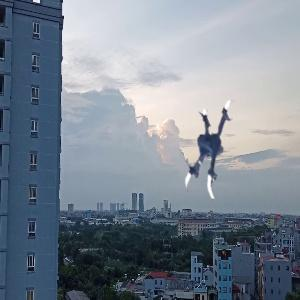drone: (170, 102, 271, 203)
